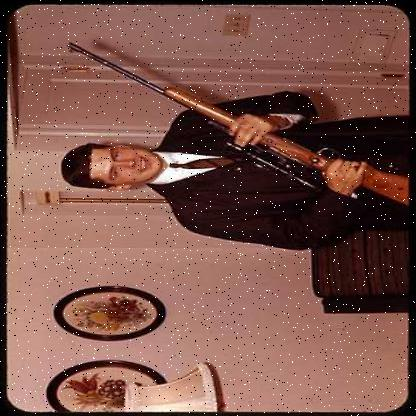rifle: (41, 32, 415, 208)
